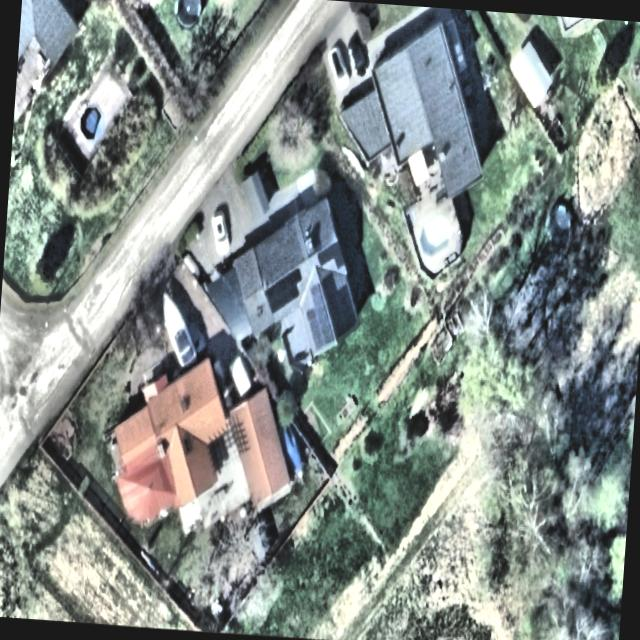roof_pv: (320, 271, 357, 339), (304, 278, 338, 350), (264, 262, 307, 314), (315, 239, 345, 274)
